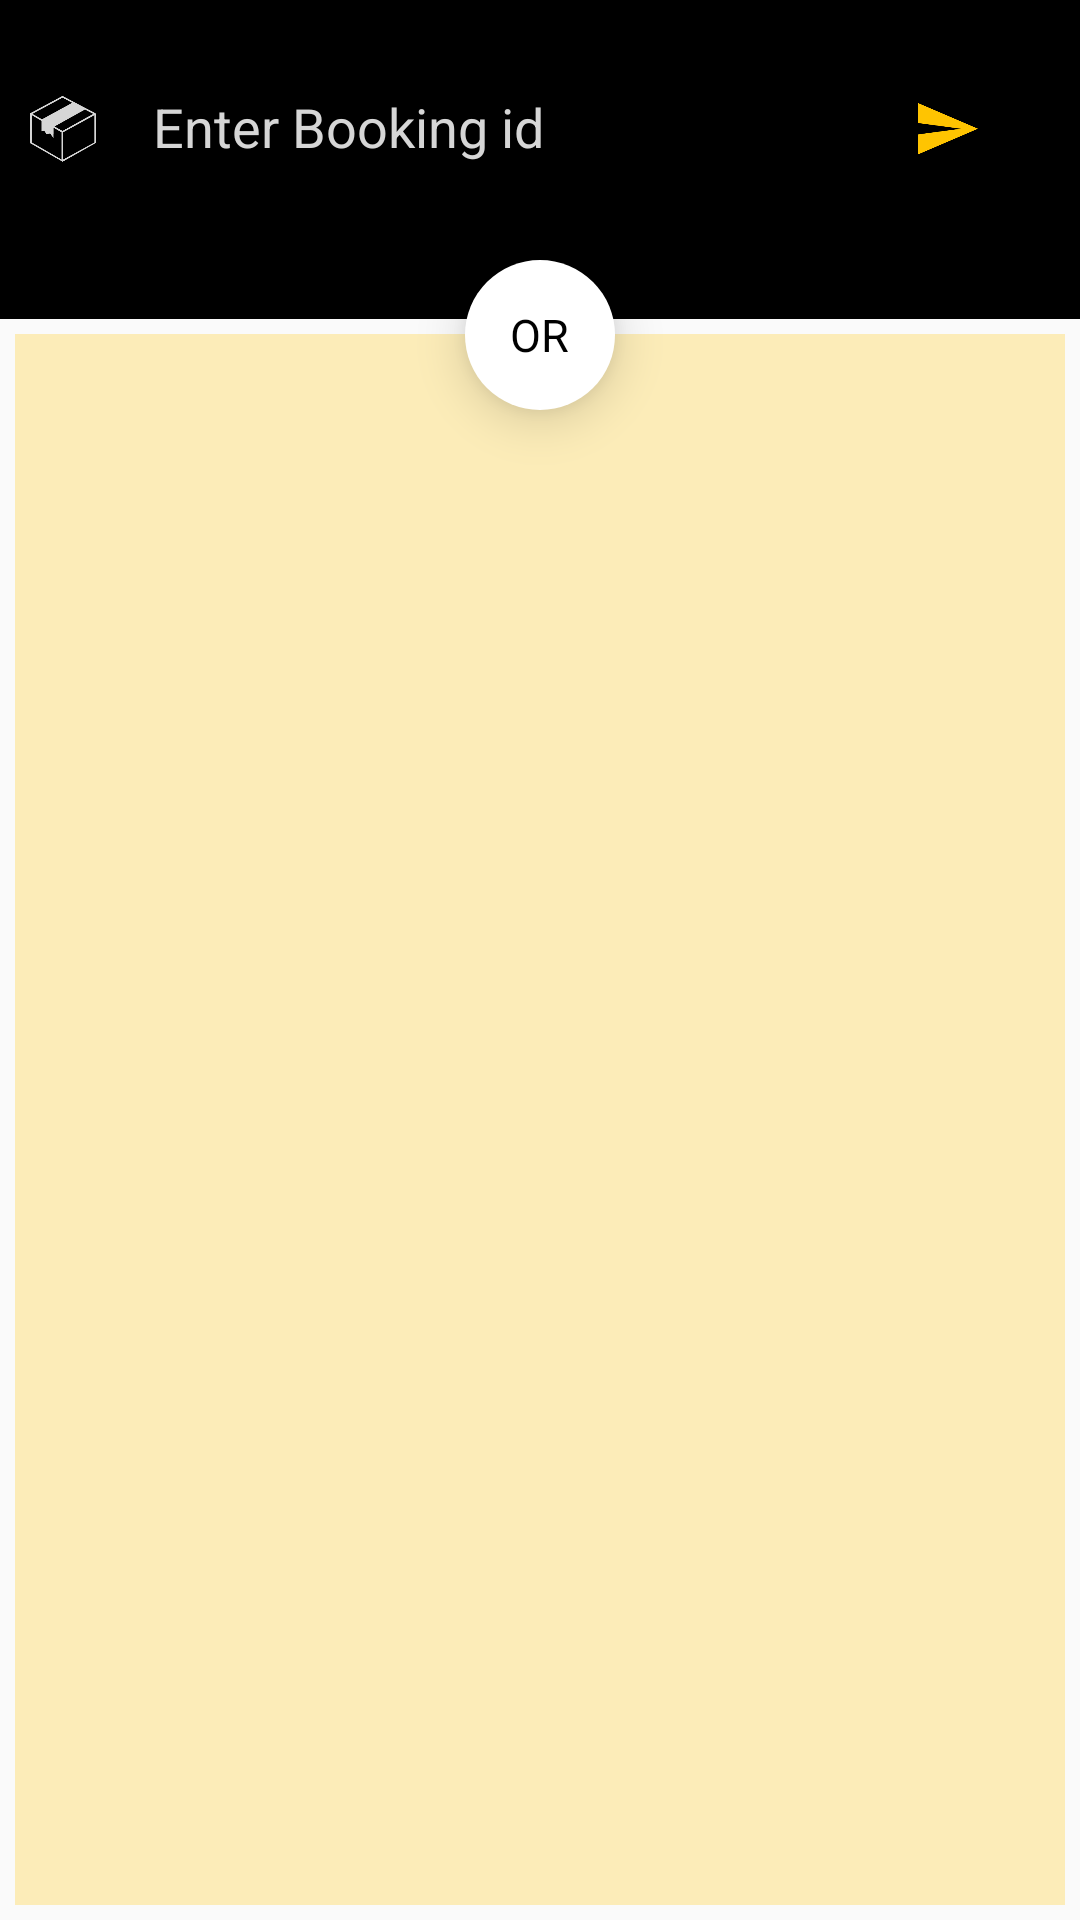

Named icons in this screenshot (1080px x 1920px) and their bounding boxes, (x1, y1, x2, y2):
forward: (918, 103, 978, 154)
parcel: (30, 96, 96, 162)
